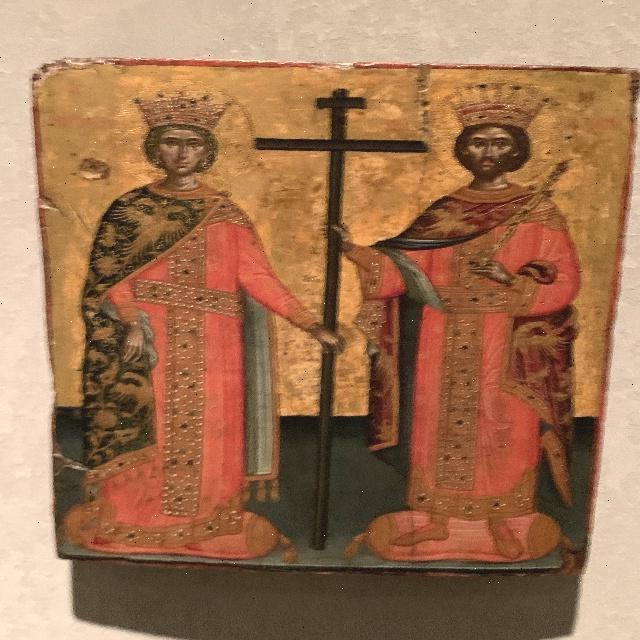aura: (434, 80, 572, 183), (113, 88, 259, 185)
cross: (256, 85, 398, 545)
crown: (448, 90, 553, 131), (137, 94, 236, 129)
st_constantine: (356, 74, 565, 551)
st_helen: (92, 80, 267, 536)
